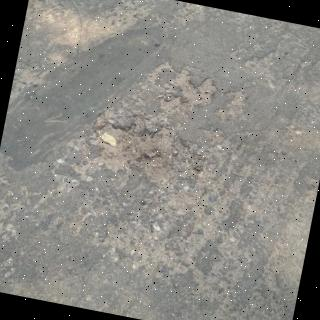pothole: (87, 60, 219, 192)
